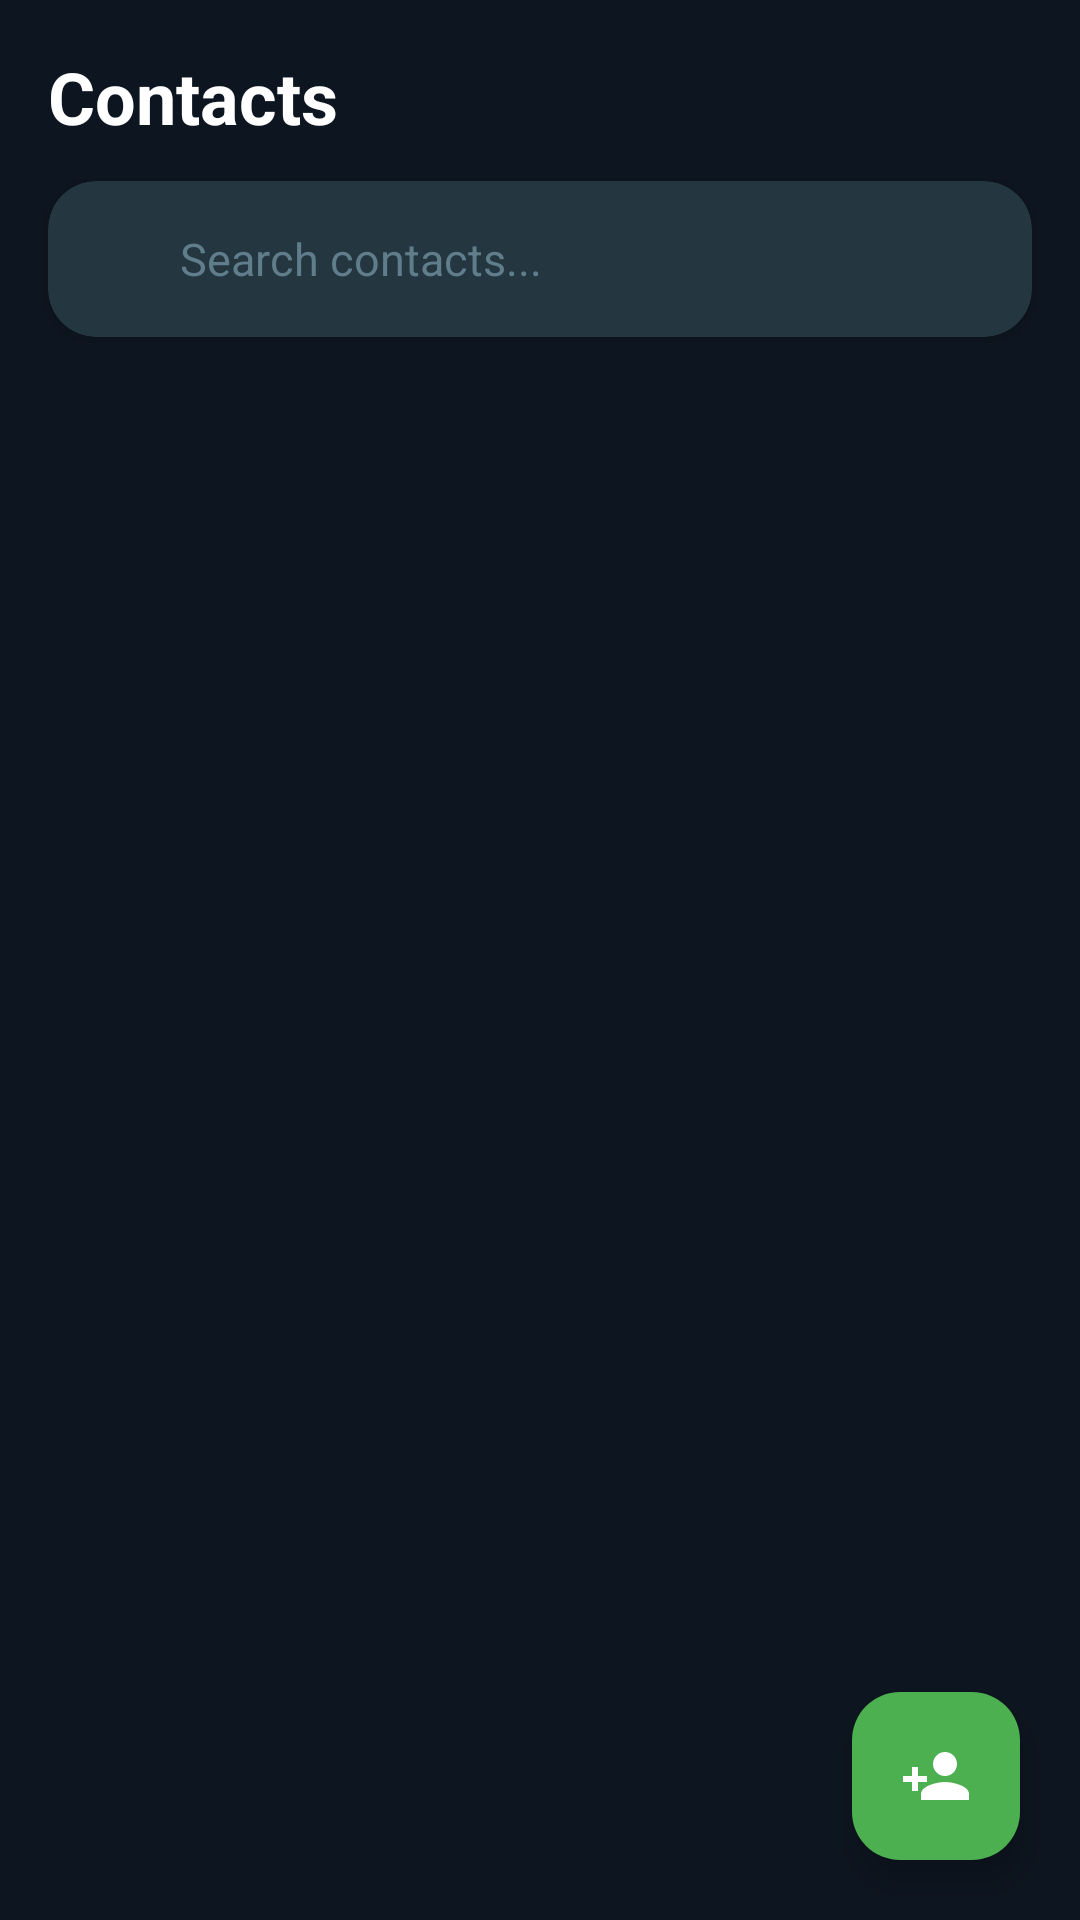

Where icons sit on this 1080 × 1920 app screen, as (x1, y1, x2, y2):
Add Contact: (852, 1692, 1020, 1860)
